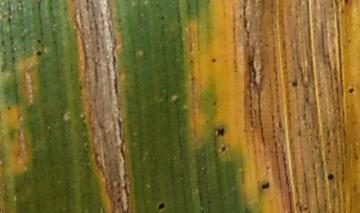tarspot: (247, 54, 257, 89), (216, 127, 226, 139), (155, 201, 166, 211), (260, 181, 270, 191), (293, 128, 304, 137), (325, 172, 335, 181), (347, 86, 355, 96), (341, 1, 352, 7), (78, 84, 83, 97), (219, 145, 227, 153), (6, 16, 13, 25), (5, 104, 12, 113), (301, 111, 308, 120), (188, 56, 194, 66), (209, 56, 216, 64), (158, 14, 166, 21), (84, 163, 91, 171), (203, 118, 210, 126), (291, 81, 298, 88), (211, 100, 218, 107), (35, 38, 42, 45), (303, 96, 310, 103), (264, 164, 270, 172), (190, 74, 196, 82), (85, 4, 90, 12), (346, 38, 352, 44), (117, 17, 122, 24), (325, 148, 332, 153), (303, 121, 308, 128), (84, 1, 92, 5), (35, 50, 40, 56)
